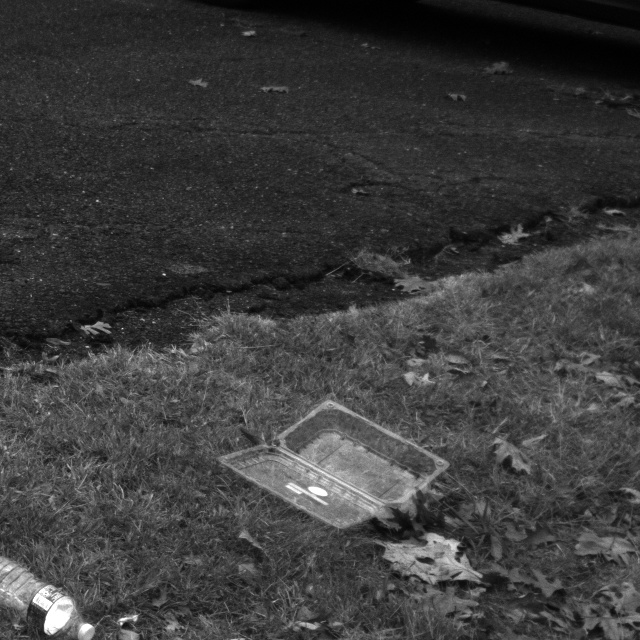bottle: (0, 525, 105, 640)
container: (216, 390, 436, 548)
